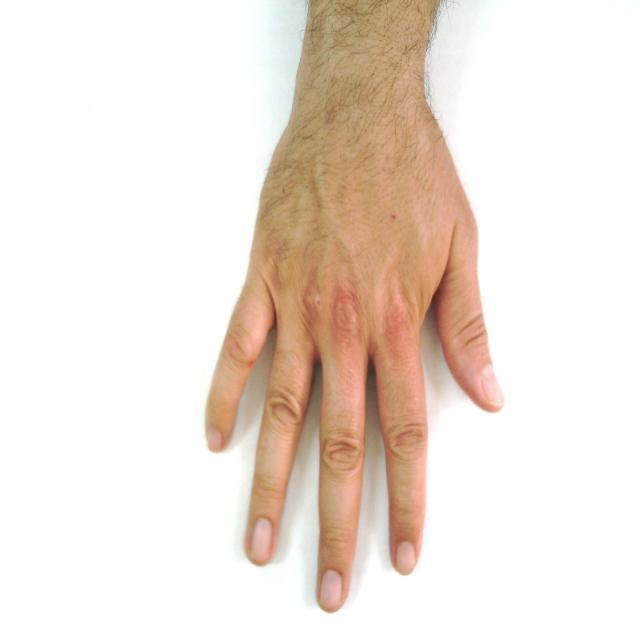Fingernail: (251, 517, 272, 562), (320, 570, 343, 610), (483, 366, 503, 404), (396, 542, 415, 574), (208, 428, 222, 451)
